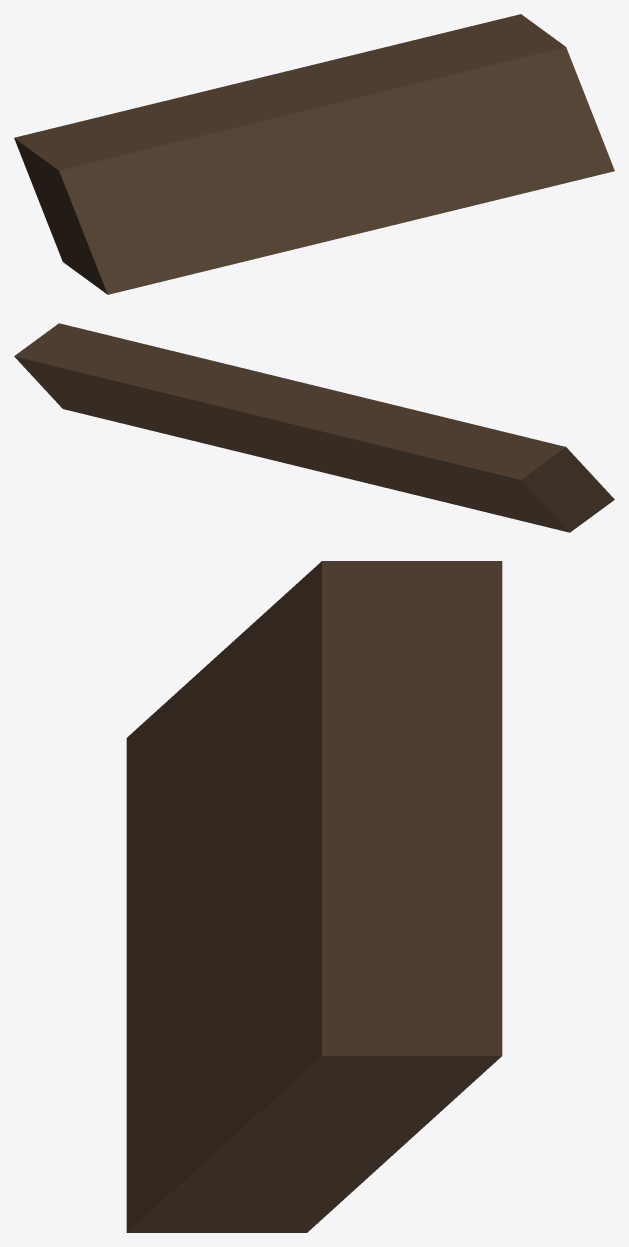
Rendered from buildings-roof-wood-3x3m-edge-bottom.glb.
3 views of the same model, one above another, from view 1: azimuth 30°, elevation 25°; view 2: azimuth 150°, elevation 25°; view 3: azimuth 270°, elevation 25° (orthographic). The views are drawn at different scales.
Visible parts, largest first — view 1: roof-wood-3x3m-edge-bottom; view 2: roof-wood-3x3m-edge-bottom; view 3: roof-wood-3x3m-edge-bottom.
Part boxes in pixels (<box>): roof-wood-3x3m-edge-bottom: <box>14,14,614,294</box>; roof-wood-3x3m-edge-bottom: <box>14,323,614,532</box>; roof-wood-3x3m-edge-bottom: <box>126,561,502,1232</box>.
Bounding box in the file's own units: 3 × 0.5003 × 0.962.
